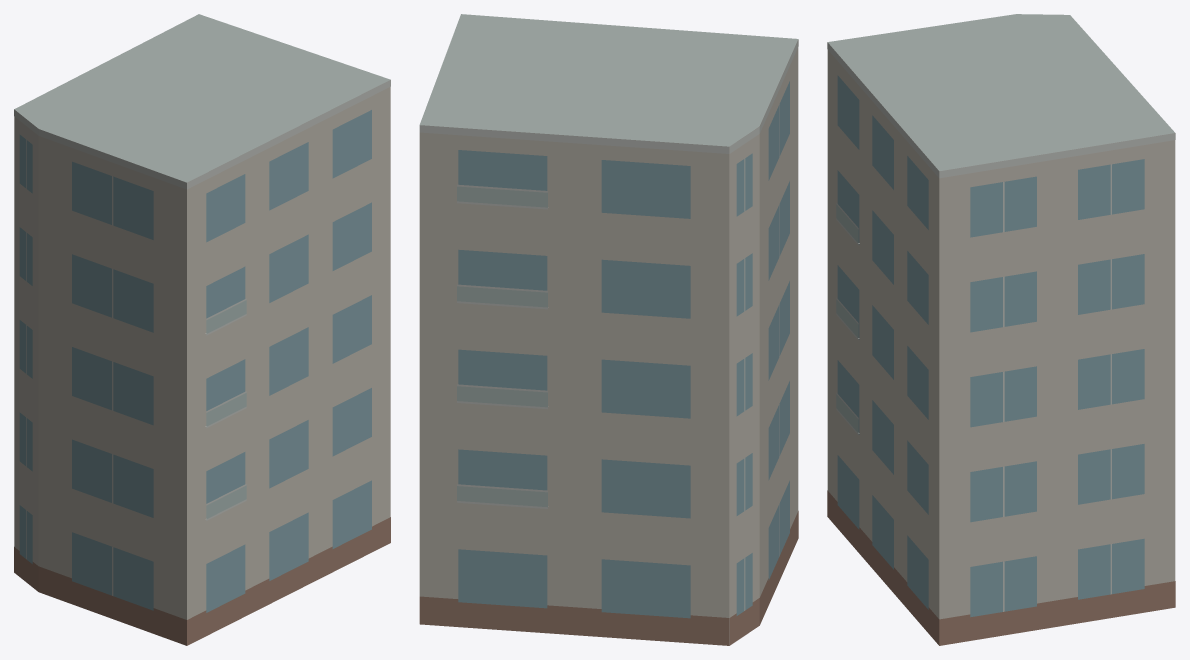
The model's file is survey-upis-32860476.glb.
3 views of the same model, side by side, from view 1: azimuth 30°, elevation 25°; view 2: azimuth 150°, elevation 25°; view 3: azimuth 270°, elevation 25° (orthographic). The views are drawn at different scales.
Visible parts, largest first — view 1: survey-upis-32860476.tmp; view 2: survey-upis-32860476.tmp; view 3: survey-upis-32860476.tmp.
Part boxes in pixels (x1,y1,x2,y2): survey-upis-32860476.tmp: (14,14,390,645); survey-upis-32860476.tmp: (419,14,798,645); survey-upis-32860476.tmp: (827,14,1175,645).
Size of the model in its own units: 11.67 by 16.4 by 10.91.
